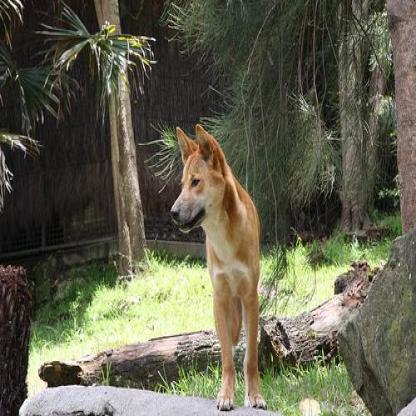dingo: (166, 124, 264, 407)
